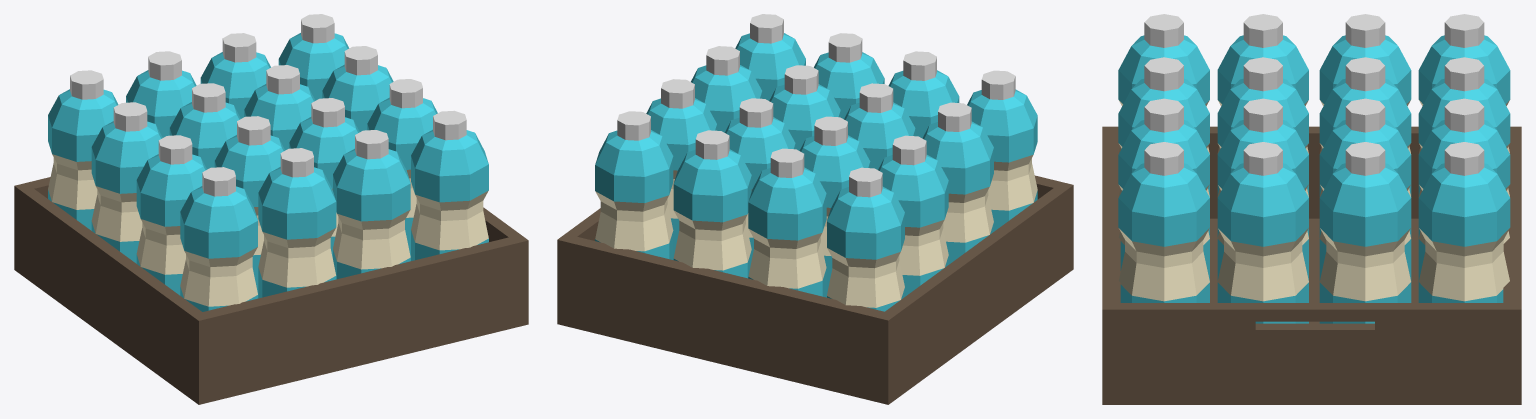
Rendered from Case_Of_Water.fbx.
3 renders of one model, left to right at view 1: azimuth 30°, elevation 25°; view 2: azimuth 150°, elevation 25°; view 3: azimuth 270°, elevation 25°, orthographic. The views are drawn at different scales.
Parts seen in each view (by area): view 1: Cube.022, Cylinder.014, Cylinder.002, Cylinder.005, Cylinder.011, Cylinder.010, Cylinder.012, Cylinder.009, Cylinder.013, Cylinder.003, Cylinder.001, Cylinder.015 (+5 smaller); view 2: Cube.022, Cylinder, Cylinder.016, Cylinder.008, Cylinder.009, Cylinder.012, Cylinder.010, Cylinder.011, Cylinder.001, Cylinder.015, Cylinder.013, Cylinder.003 (+5 smaller); view 3: Cube.022, Cylinder.001, Cylinder.003, Cylinder.002, Cylinder, Cylinder.006, Cylinder.004, Cylinder.005, Cylinder.008, Cylinder.010, Cylinder.009, Cylinder.012 (+5 smaller).
Boxes of the visible parts, x1=… form: Cube.022: x1=14, y1=177, x2=528, y2=404; Cylinder.014: x1=258, y1=148, x2=336, y2=298; Cylinder.002: x1=411, y1=110, x2=488, y2=260; Cylinder.005: x1=333, y1=130, x2=410, y2=279; Cylinder.011: x1=180, y1=167, x2=257, y2=311; Cylinder.010: x1=91, y1=102, x2=162, y2=263; Cylinder.012: x1=136, y1=135, x2=206, y2=295; Cylinder.009: x1=48, y1=70, x2=118, y2=230; Cylinder.013: x1=214, y1=116, x2=285, y2=298; Cylinder.003: x1=367, y1=79, x2=437, y2=260; Cylinder.001: x1=322, y1=46, x2=393, y2=131; Cylinder.015: x1=169, y1=83, x2=240, y2=169; Cube.022: x1=557, y1=175, x2=1073, y2=404; Cylinder: x1=595, y1=111, x2=673, y2=259; Cylinder.016: x1=748, y1=148, x2=826, y2=297; Cylinder.008: x1=673, y1=130, x2=751, y2=278; Cylinder.009: x1=827, y1=167, x2=904, y2=311; Cylinder.012: x1=922, y1=102, x2=993, y2=264; Cylinder.010: x1=878, y1=135, x2=948, y2=296; Cylinder.011: x1=967, y1=70, x2=1037, y2=231; Cylinder.001: x1=646, y1=79, x2=716, y2=259; Cylinder.015: x1=799, y1=116, x2=870, y2=297; Cylinder.013: x1=844, y1=83, x2=915, y2=169; Cylinder.003: x1=691, y1=46, x2=762, y2=132; Cube.022: x1=1102, y1=126, x2=1521, y2=404; Cylinder.001: x1=1319, y1=142, x2=1411, y2=323; Cylinder.003: x1=1217, y1=142, x2=1308, y2=323; Cylinder.002: x1=1118, y1=142, x2=1209, y2=302; Cylinder: x1=1418, y1=142, x2=1510, y2=302; Cylinder.006: x1=1319, y1=98, x2=1411, y2=281; Cylinder.004: x1=1217, y1=98, x2=1308, y2=280; Cylinder.005: x1=1118, y1=98, x2=1209, y2=280; Cylinder.008: x1=1418, y1=98, x2=1510, y2=281; Cylinder.010: x1=1319, y1=14, x2=1411, y2=196; Cylinder.009: x1=1418, y1=14, x2=1510, y2=196; Cylinder.012: x1=1217, y1=14, x2=1308, y2=196.
Size of the model in its own units: 142 by 82.07 by 138.
